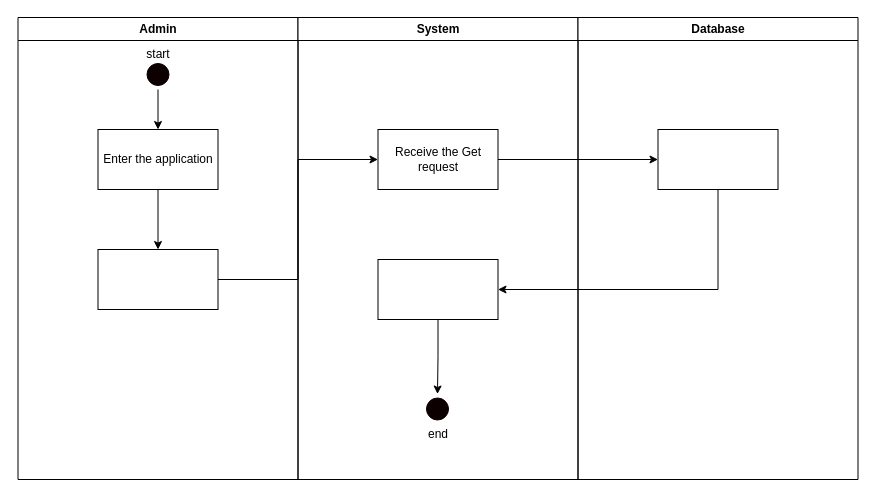
Image size: 875x497. Some labels were removed from this diagram. Here are the shapes that lost their labels. From the top down, the centre of each, then its label:
point (717, 159): Gets all reports
point (157, 279): Click Reports on the navbar
point (437, 289): show the reports
